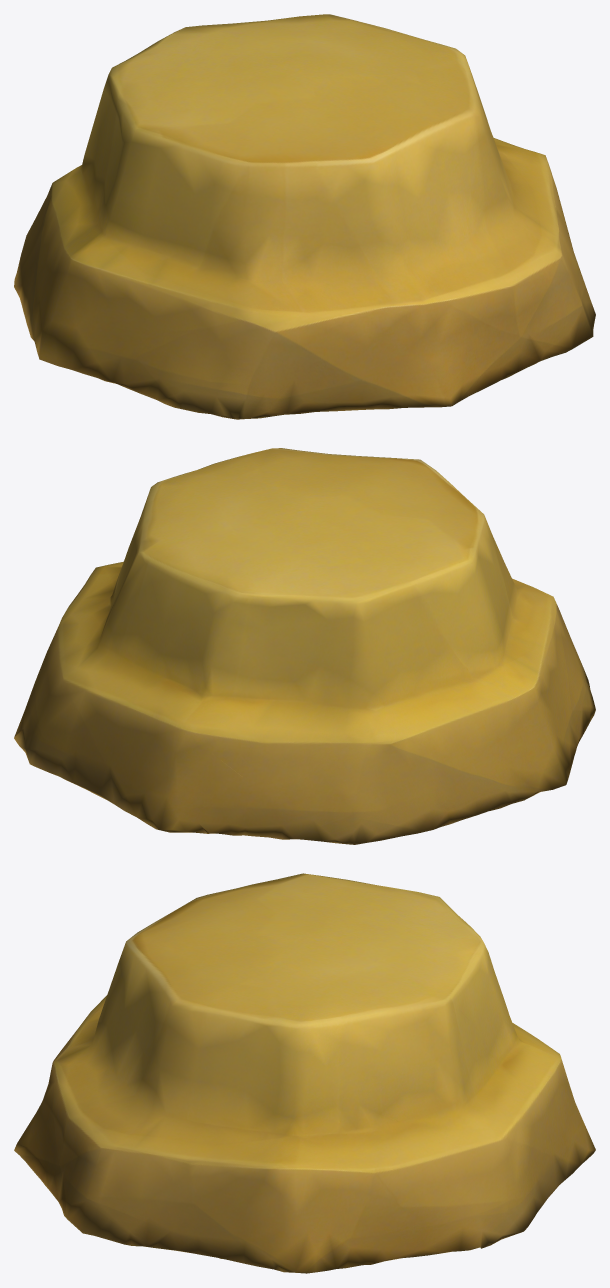
File: Geometric_Dome_1214000342_texture.fbx
The picture shows the model from 3 angles, top to bottom: view 1: azimuth 30°, elevation 25°; view 2: azimuth 150°, elevation 25°; view 3: azimuth 270°, elevation 25°; orthographic projection. The views are drawn at different scales.
Visible parts, largest first — view 1: Mesh_0; view 2: Mesh_0; view 3: Mesh_0.
Boxes of the visible parts, x1,y1,x2,y2 form: Mesh_0: [14, 14, 595, 419]; Mesh_0: [14, 448, 595, 844]; Mesh_0: [14, 873, 595, 1273].
Bounding box in the file's own units: 202 × 81.62 × 201.
Materials: 1 (1 with a texture image).
